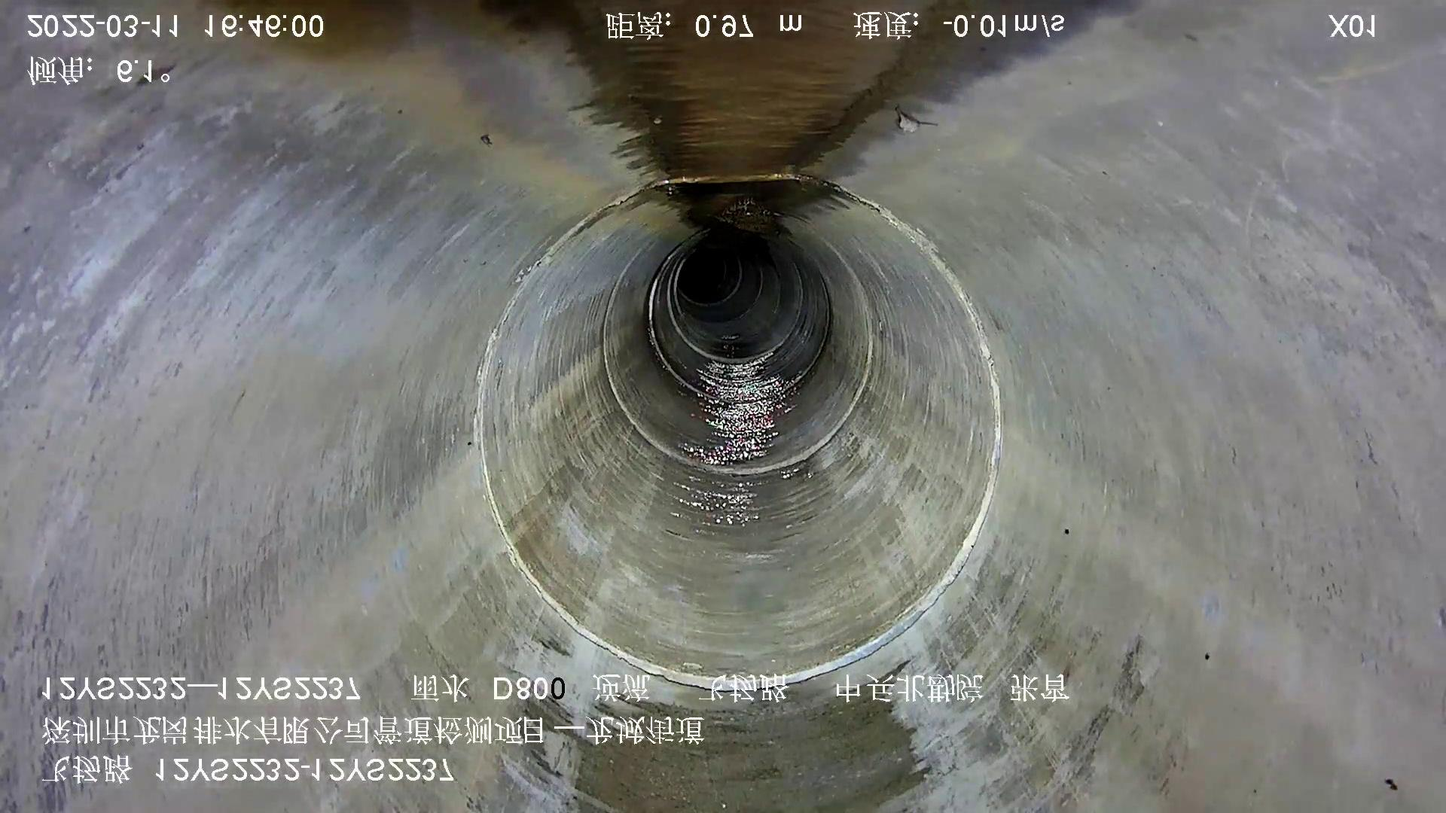CKTJ: (474, 208, 1003, 693), (601, 308, 883, 476)
